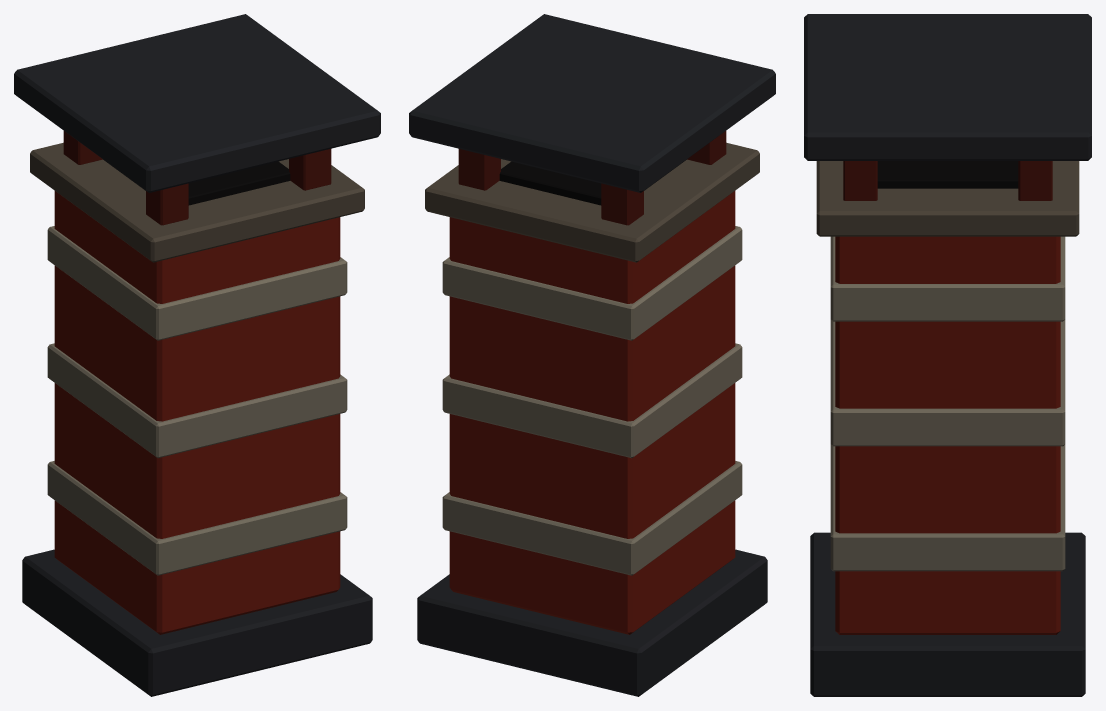
Rendered from mod_chimney_flue_2m.glb.
3 renders of one model, left to right at view 1: azimuth 30°, elevation 25°; view 2: azimuth 150°, elevation 25°; view 3: azimuth 270°, elevation 25°, orthographic. The views are drawn at different scales.
Parts seen in each view (by area): view 1: Mod_Chimney_Flue_2m; view 2: Mod_Chimney_Flue_2m; view 3: Mod_Chimney_Flue_2m.
Part boxes in pixels (x1,y1,x2,y2): Mod_Chimney_Flue_2m: (14,14,380,696); Mod_Chimney_Flue_2m: (409,14,775,696); Mod_Chimney_Flue_2m: (804,14,1091,696).
Size of the model in its own units: 0.92 by 2 by 0.92.
